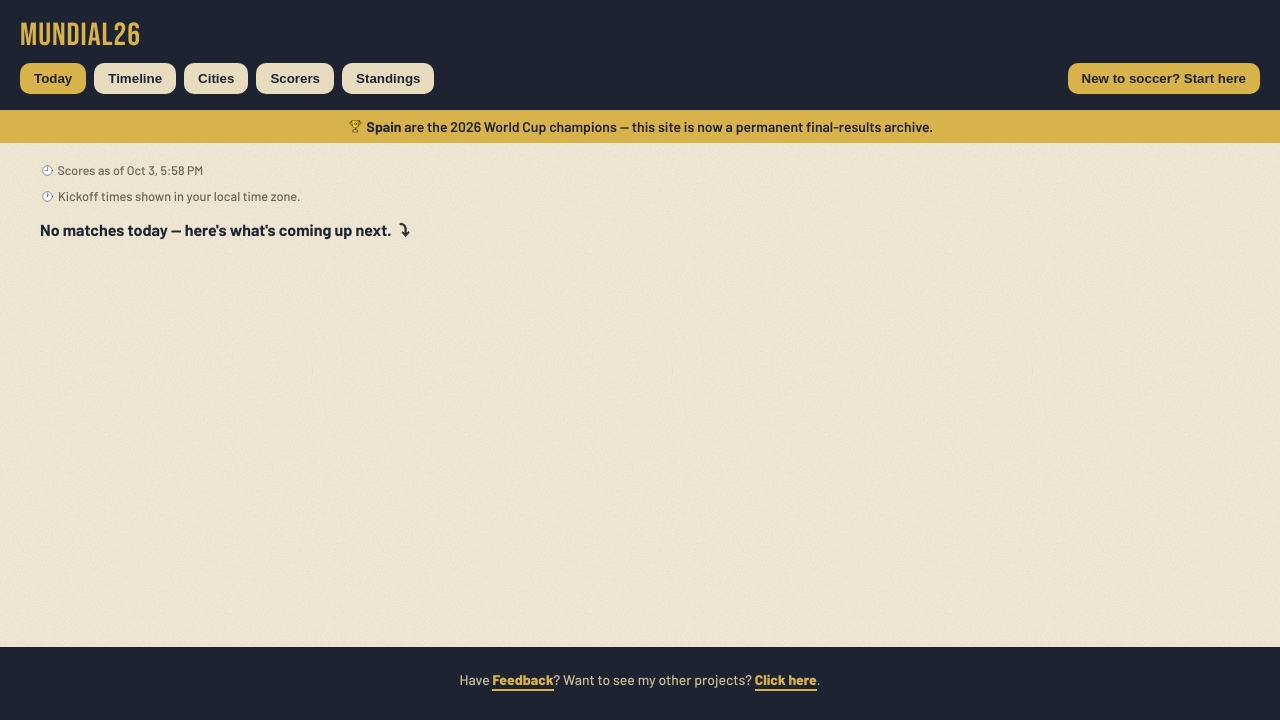
Test: App › has a Scorers tab that opens the leaderboard
The image size is (1280, 720).
Click the button "Scorers": [295, 78] box [256,63,334,94]
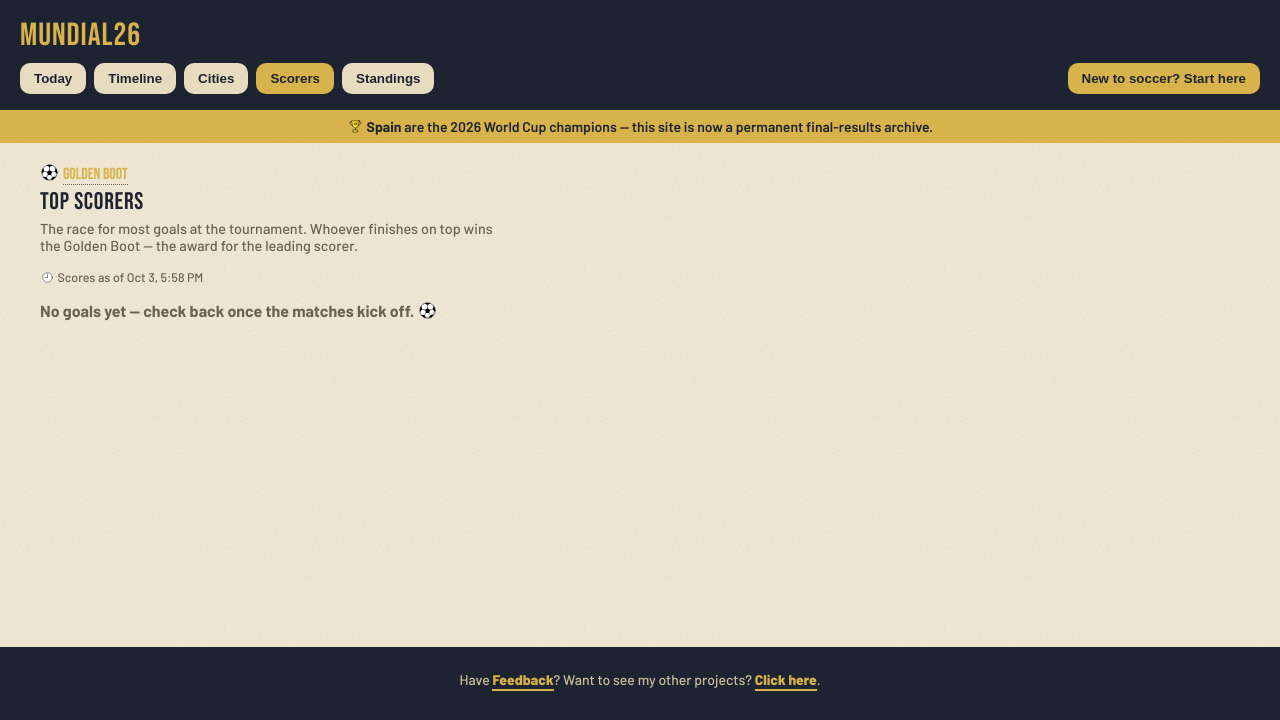
expect the element "Scorers" is shown: met, box [40,163,493,320]
